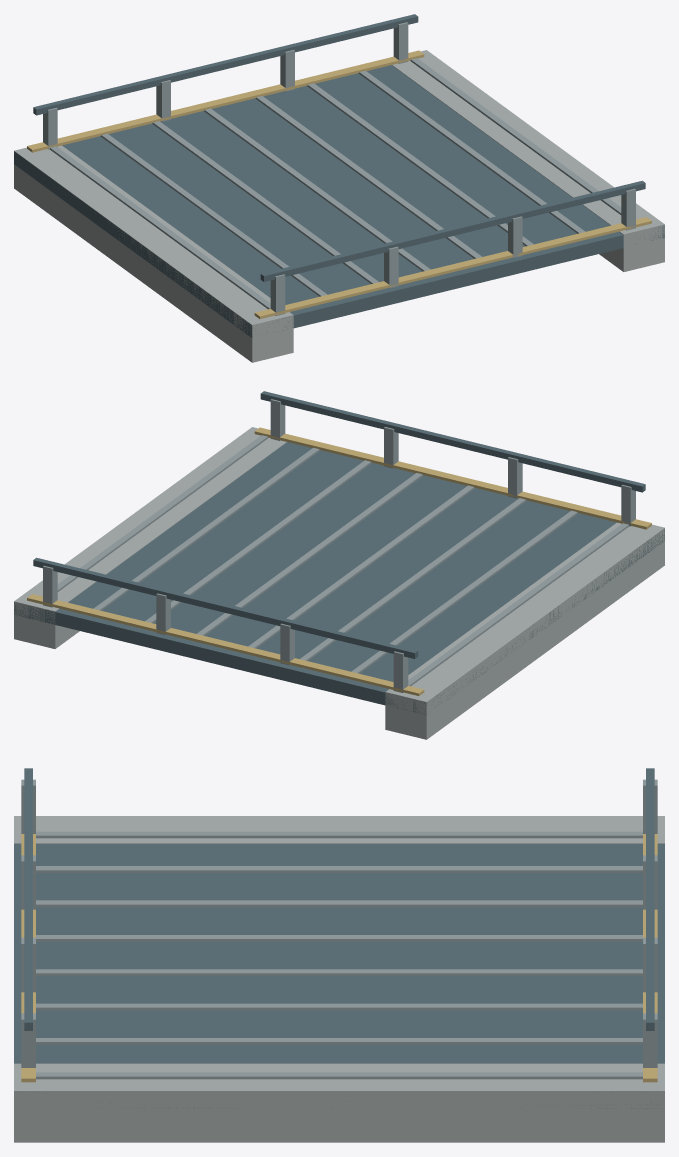
File: bridge-low.glb
The picture shows the model from 3 angles, top to bottom: view 1: azimuth 30°, elevation 25°; view 2: azimuth 150°, elevation 25°; view 3: azimuth 270°, elevation 25°; orthographic projection. The views are drawn at different scales.
Parts seen in each view (by area): view 1: asset_bridge__FP_Baked; view 2: asset_bridge__FP_Baked; view 3: asset_bridge__FP_Baked.
Boxes of the visible parts, x1=… form: asset_bridge__FP_Baked: x1=14, y1=14, x2=664, y2=362; asset_bridge__FP_Baked: x1=14, y1=391, x2=664, y2=739; asset_bridge__FP_Baked: x1=14, y1=768, x2=664, y2=1142.
Size of the model in its own units: 4 by 0.7425 by 4.
